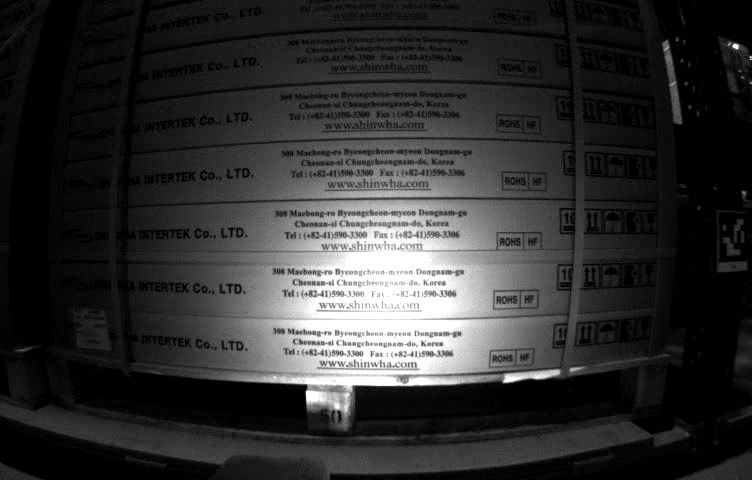True Barcode: (68, 304, 111, 351)
